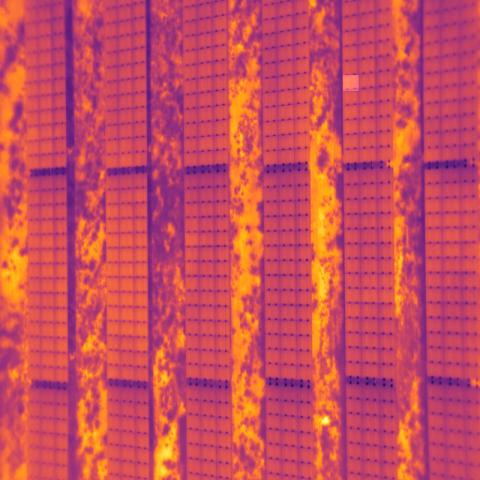fault: (343, 76, 359, 92)
